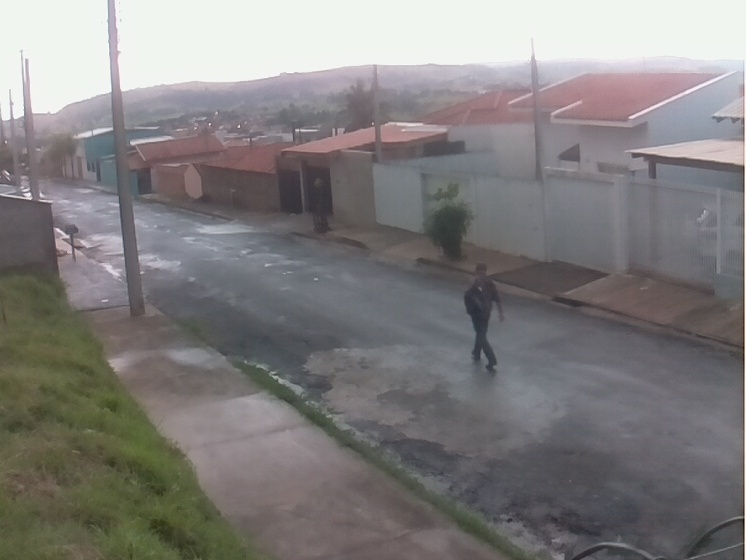person: (463, 260, 506, 375)
